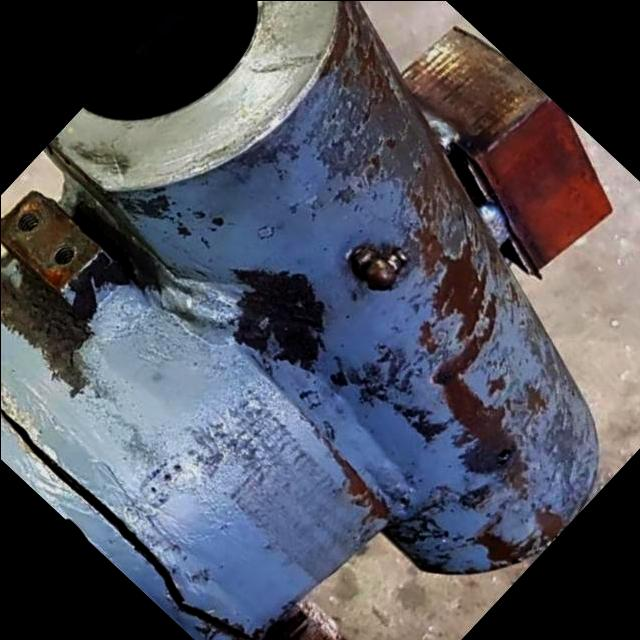defect: (0, 399, 259, 640)
